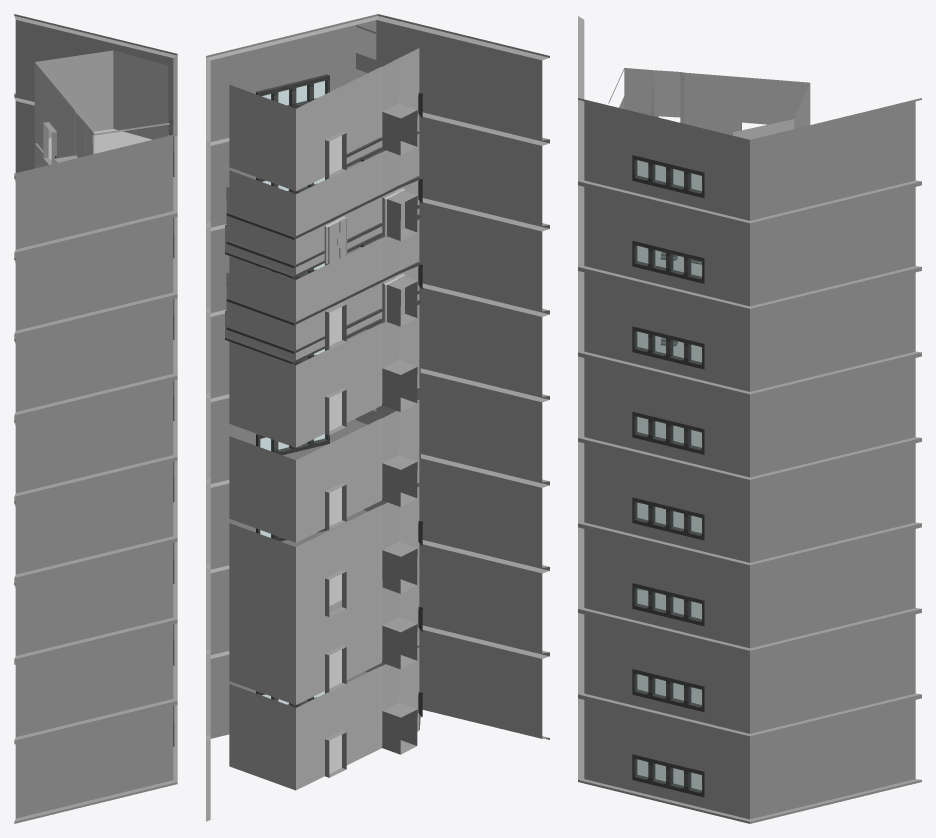
Rendered from Tower.fbx.
3 views of the same model, side by side, from view 1: azimuth 30°, elevation 25°; view 2: azimuth 150°, elevation 25°; view 3: azimuth 270°, elevation 25° (orthographic). The views are drawn at different scales.
Visible parts, largest first — view 1: pCylinder94, polySurface26; view 2: pCylinder94, polySurface26, polySurface39, polySurface38, polySurface30, polySurface40, polySurface36, polySurface28, polySurface24, pCube330, pCube304, polySurface25 (+1 smaller); view 3: pCylinder94, polySurface26, polySurface29, polySurface23, polySurface37, polySurface25, polySurface27, polySurface31, polySurface33, polySurface35, pCube466, pCube280 (+12 smaller).
Boxes of the visible parts, x1,y1,x2,y2 form: pCylinder94: (14,14,177,823); polySurface26: (34,50,169,164); pCylinder94: (206,14,549,821); polySurface26: (229,25,420,191); polySurface39: (229,399,420,542); polySurface38: (229,646,420,790); polySurface30: (229,304,420,447); polySurface40: (229,486,420,629); polySurface36: (229,562,420,704); polySurface28: (229,218,420,360); polySurface24: (229,133,420,274); pCube330: (225,243,420,364); pCube304: (225,158,420,278); polySurface25: (256,74,329,108); pCylinder94: (578,16,921,823); polySurface26: (608,68,810,190); polySurface29: (632,411,704,454); polySurface23: (632,240,704,283); polySurface37: (632,754,704,797); polySurface25: (632,155,704,197); polySurface27: (632,326,704,369); polySurface31: (632,497,704,540); polySurface33: (632,583,704,625); polySurface35: (632,669,704,711); pCube466: (636,674,701,706); pCube280: (636,246,701,277).
Size of the model in its own units: 22.12 by 56.05 by 25.54.
